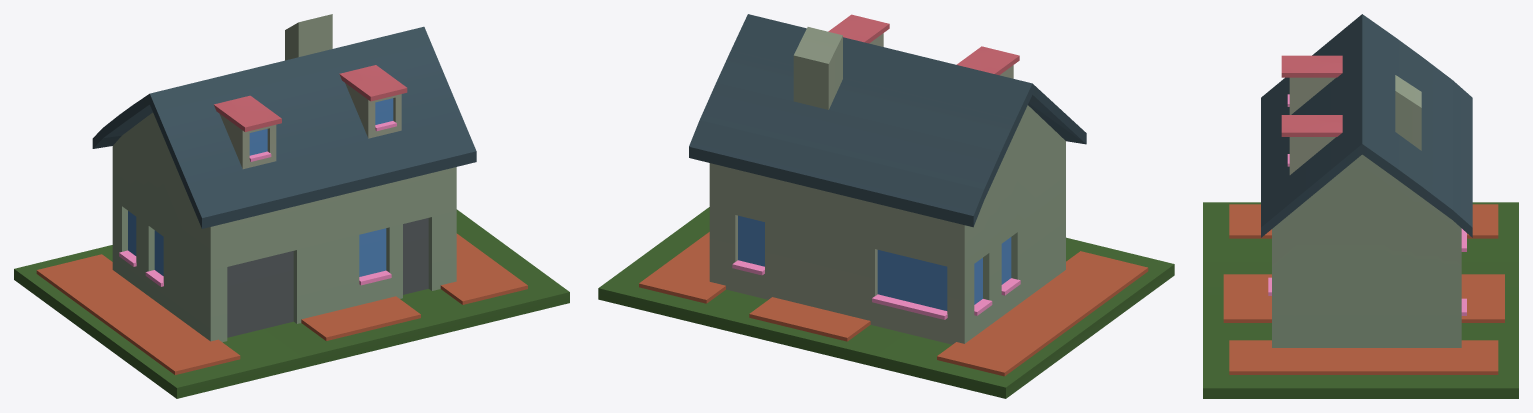
File: Outer House6.fbx
The picture shows the model from 3 angles, left to right: view 1: azimuth 30°, elevation 25°; view 2: azimuth 150°, elevation 25°; view 3: azimuth 270°, elevation 25°; orthographic projection. The views are drawn at different scales.
Visible parts, largest first — view 1: Outer_House6; view 2: Outer_House6; view 3: Outer_House6.
Boxes of the visible parts, left/top/right/bottom form: Outer_House6: left=14, top=14, right=569, bottom=398; Outer_House6: left=598, top=14, right=1174, bottom=398; Outer_House6: left=1203, top=14, right=1518, bottom=398.
Size of the model in its own units: 1004 by 611 by 720.
Materials: 1 (1 with a texture image).
